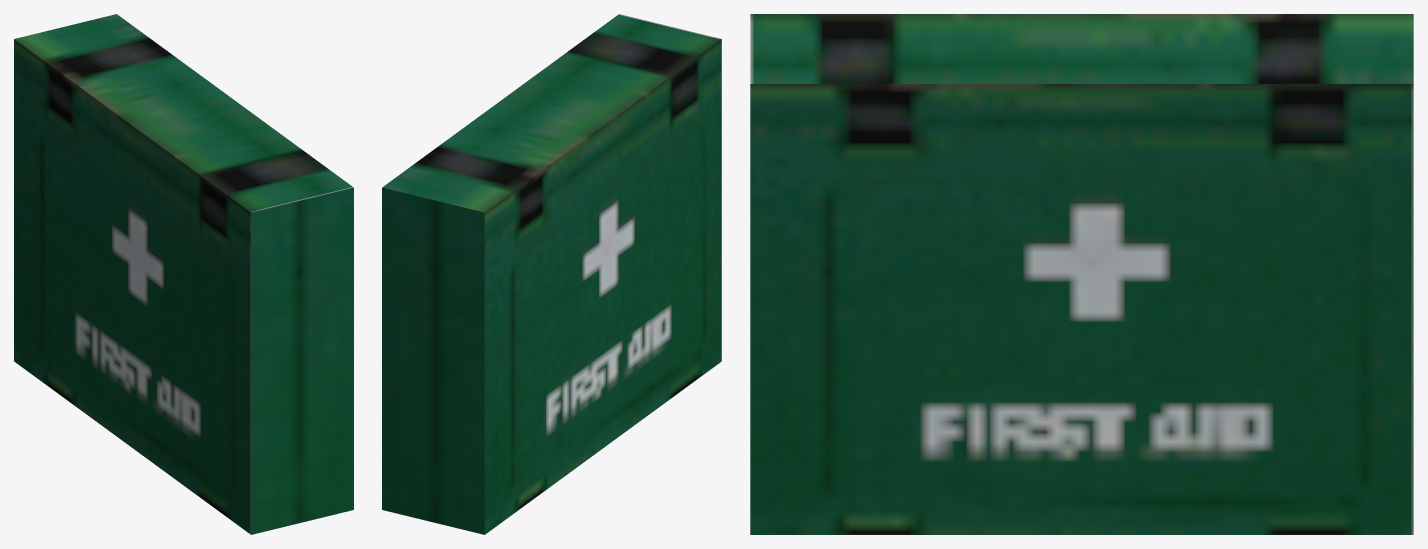
The model's file is ITEM_MEDIKIT-LOW.fbx.
The picture shows the model from 3 angles, left to right: view 1: azimuth 30°, elevation 25°; view 2: azimuth 150°, elevation 25°; view 3: azimuth 270°, elevation 25°; orthographic projection. The views are drawn at different scales.
Visible parts, largest first — view 1: first-aid; view 2: first-aid; view 3: first-aid.
Part boxes in pixels (box(x1,y1,x2,y2)): first-aid: box(14, 14, 353, 534); first-aid: box(382, 14, 721, 534); first-aid: box(750, 14, 1413, 534).
Size of the model in its own units: 0.05 by 0.15 by 0.2.
